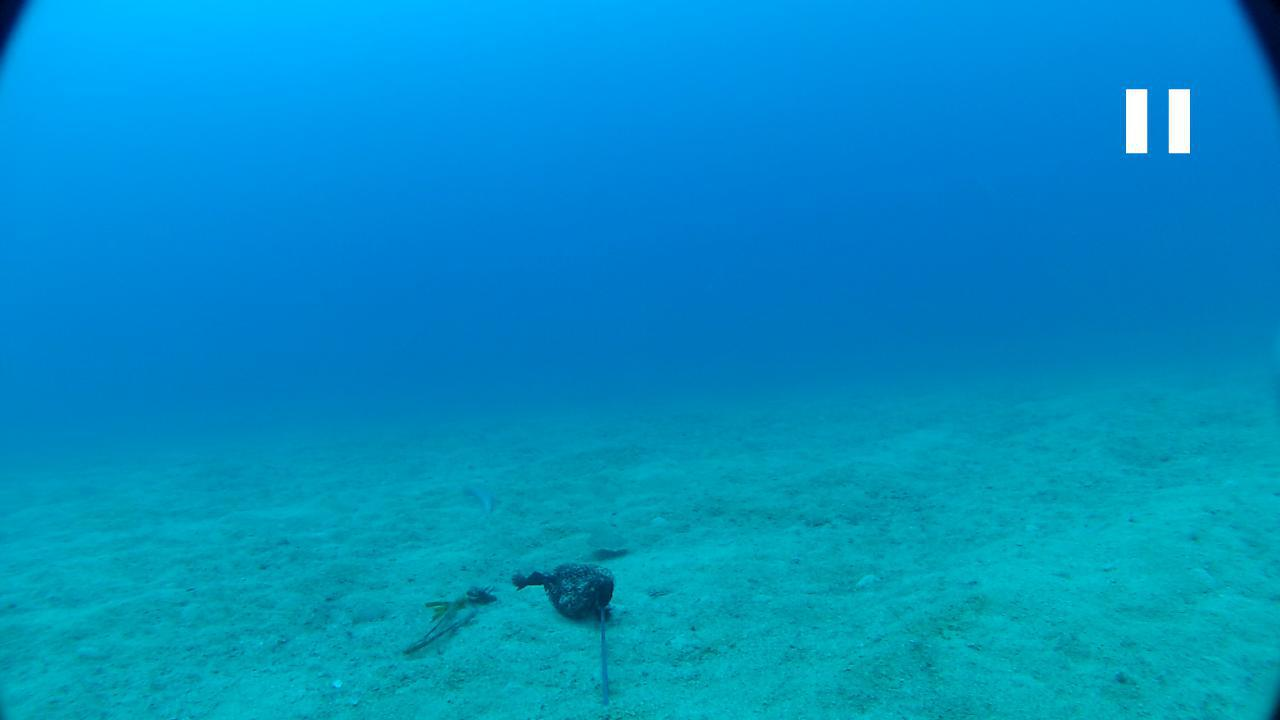bothus: (580, 527, 628, 552)
